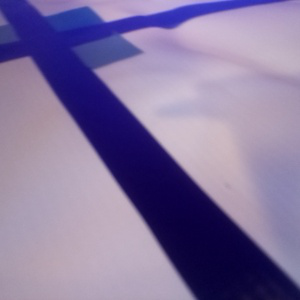bottom_right: (42, 32, 144, 75)
top_left: (1, 24, 49, 55)
top_right: (22, 6, 106, 36)
